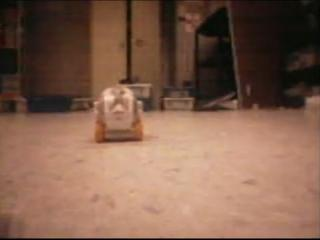cozmo: (92, 83, 144, 143)
